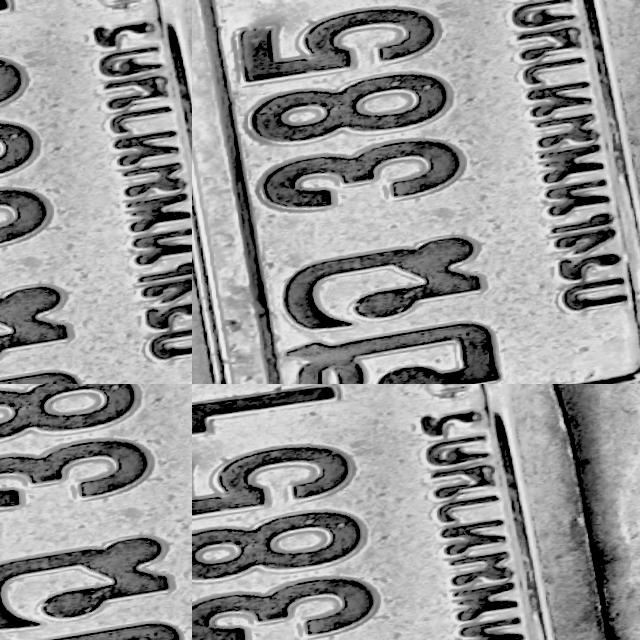license-plate: (192, 384, 640, 640), (0, 384, 192, 640)
